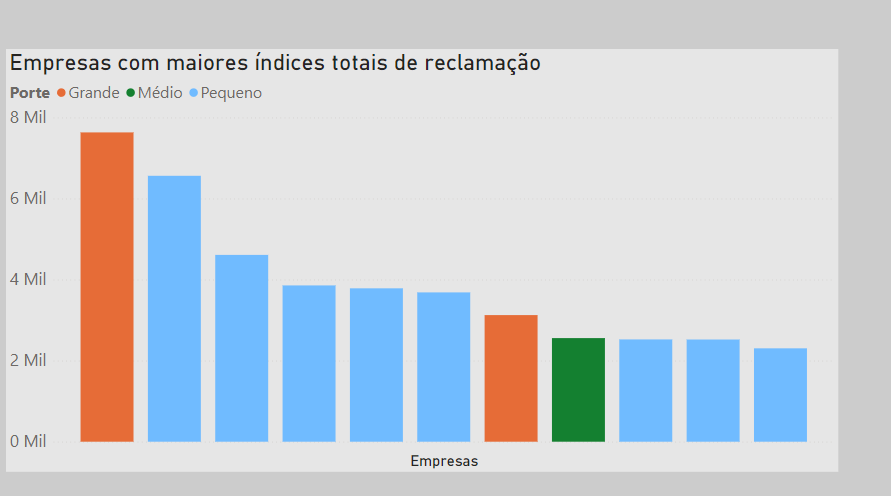

The dashboard page shown, as its layout file describes it:
{"tool":"powerbi","page":{"name":"Avaliacao-porte","canvas":[1280,720],"ordinal":1},"visuals":[{"type":"columnChart","title":"Empresas com maiores índices totais de reclamação","fields":{"Category":["IGR_editado.Razão Social"],"Y":["Sum(IGR_editado.Total por Empresa)"],"Series":["IGR_editado.Porte"]},"box":[12.5,73.8,1188.8,603.8],"z":0}]}

Visuals, with their boxes in screenshot pixels (x1, y1, x2, y2), scaled from the page's 1280x720 canvas onto the 891x496 screenshot:
"Empresas com maiores índices totais de reclamação" columnChart: crop(9, 51, 836, 467)
